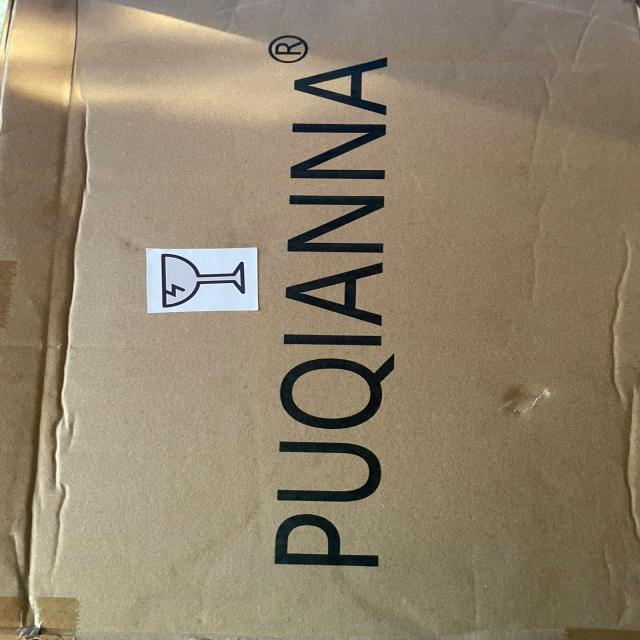carton_box: (6, 3, 640, 640)
fragile_label: (133, 231, 275, 332)
package_damage: (467, 361, 596, 446)
